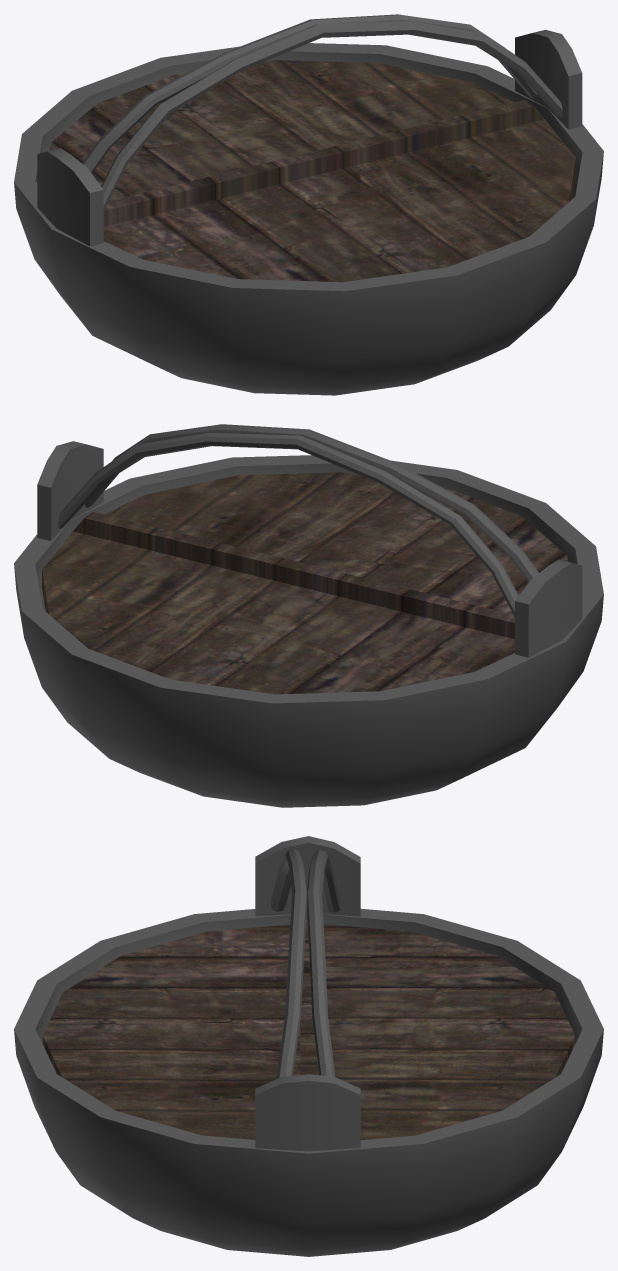
File: nabe.fbx
The picture shows the model from 3 angles, top to bottom: view 1: azimuth 30°, elevation 25°; view 2: azimuth 150°, elevation 25°; view 3: azimuth 270°, elevation 25°; orthographic projection.
Visible parts, largest first — view 1: yakan:irorinabe_2, yakan:irorinabe_1; view 2: yakan:irorinabe_2, yakan:irorinabe_1; view 3: yakan:irorinabe_2, yakan:irorinabe_1.
Part boxes in pixels (bbox=[...]): yakan:irorinabe_2: bbox=[14, 14, 603, 395]; yakan:irorinabe_1: bbox=[49, 60, 575, 282]; yakan:irorinabe_2: bbox=[14, 424, 603, 807]; yakan:irorinabe_1: bbox=[42, 472, 568, 694]; yakan:irorinabe_2: bbox=[14, 836, 603, 1256]; yakan:irorinabe_1: bbox=[42, 911, 575, 1139].
Size of what is drawn, in the model's own units: 4.48 by 2.54 by 4.48.
2 materials, 1 textured.
